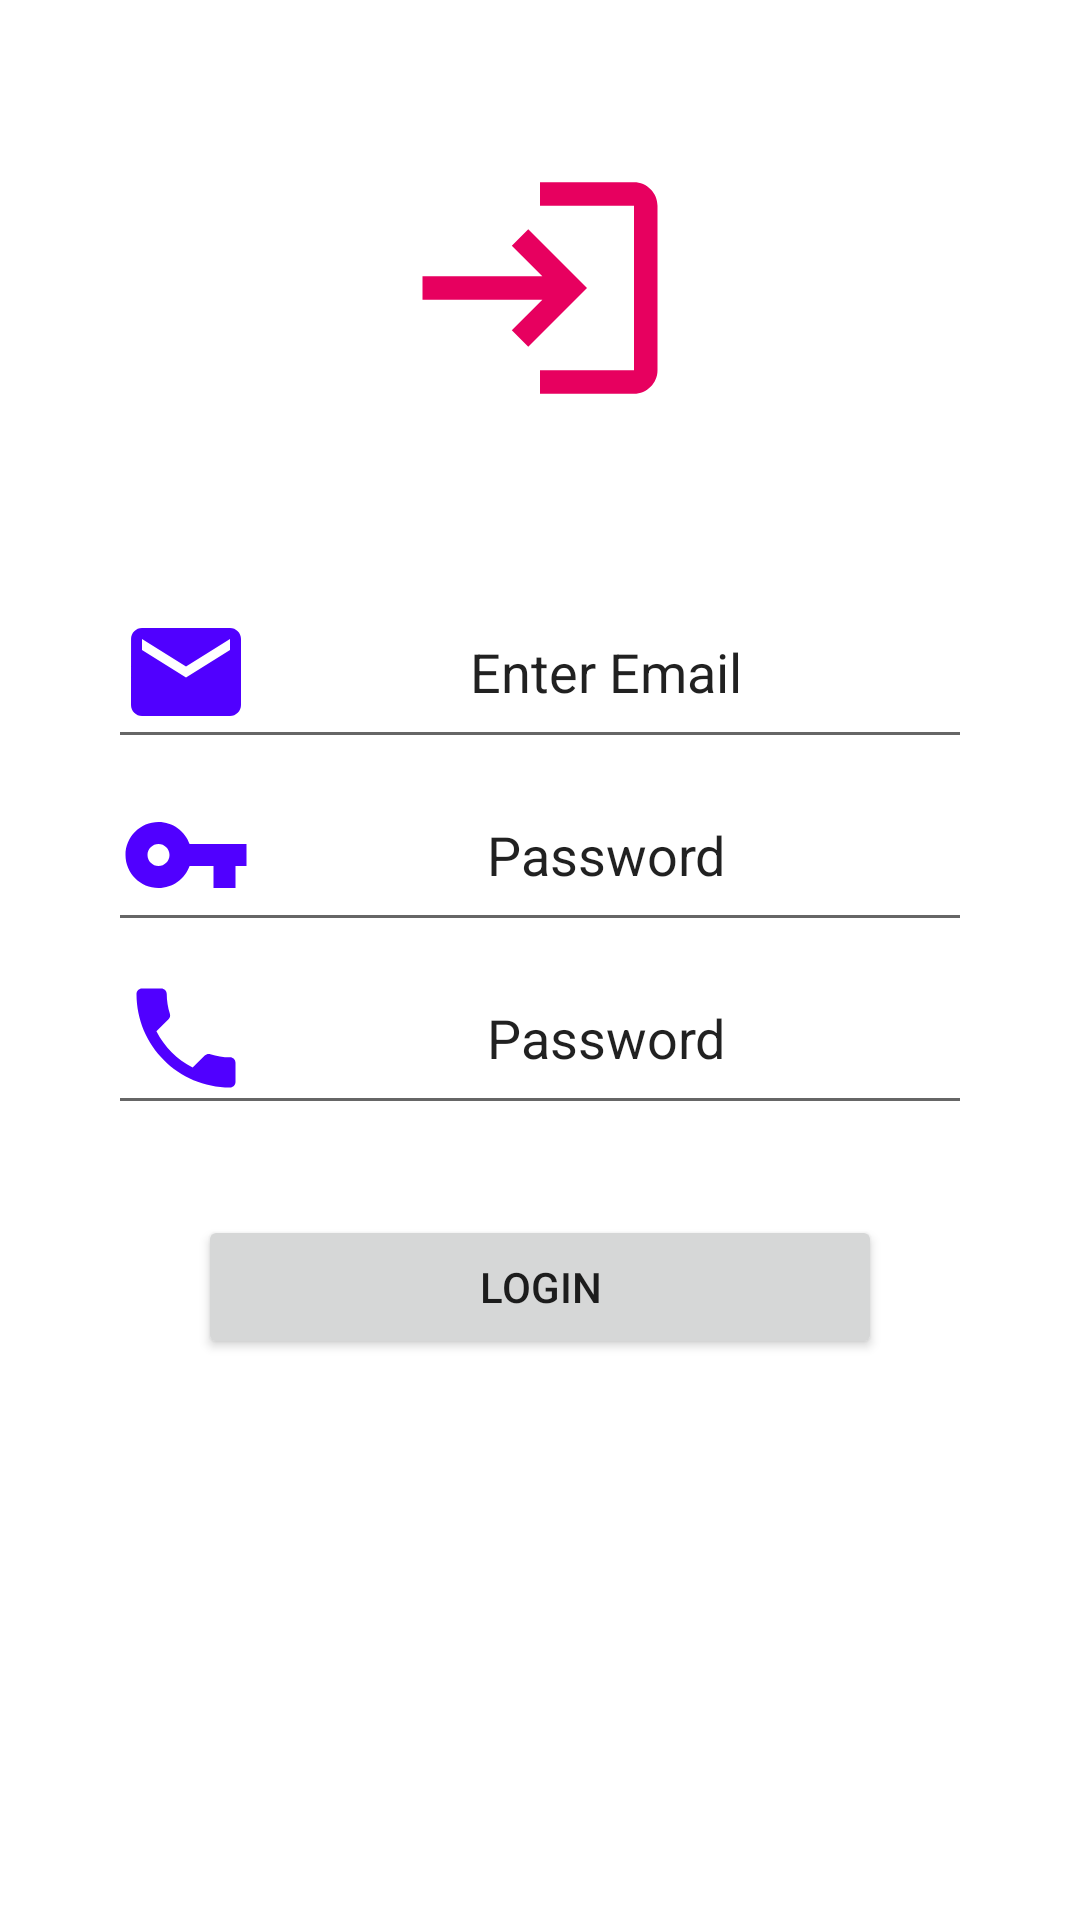

Locate icon controls on the screen. Image size 1080px x 1920px, boxes as [x1=x1, y1=y1, x2=x2, y2=y2].
login: [x1=422, y1=182, x2=658, y2=394]
